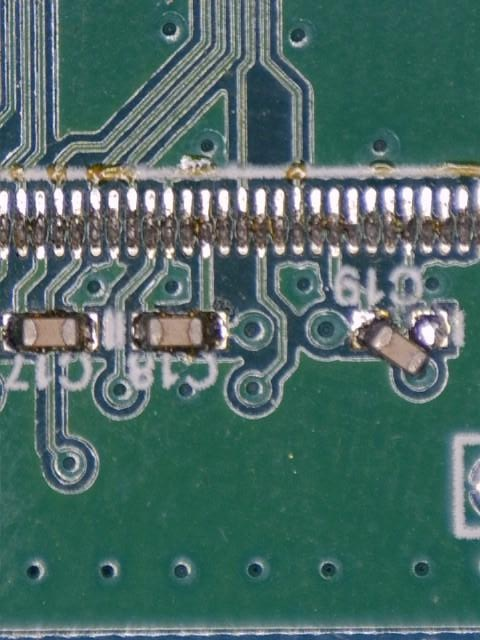pcb_defect: (351, 310, 448, 376)
